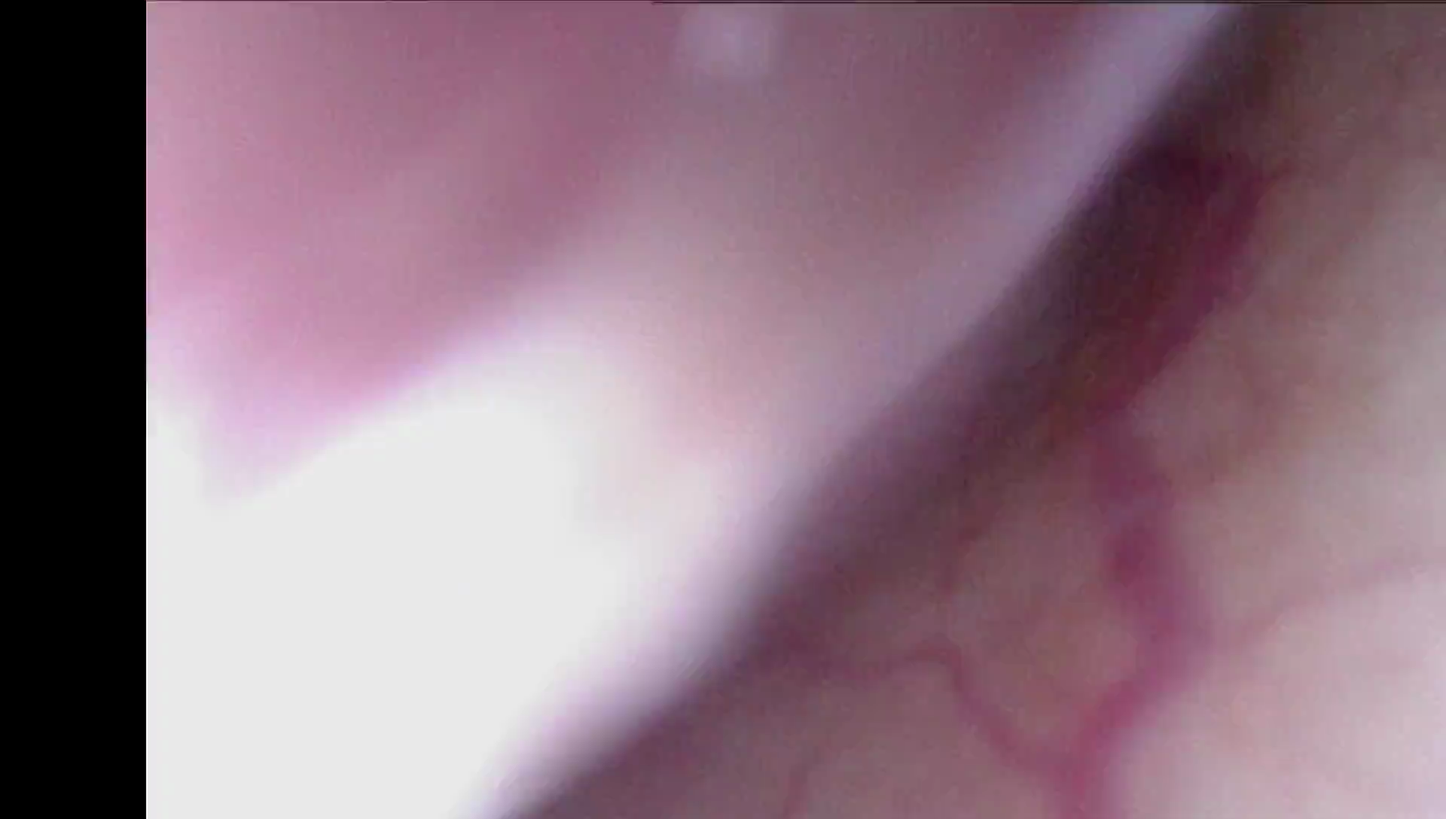close_wall: (158, 25, 901, 772), (1005, 501, 1446, 819)
next: (949, 90, 1215, 474)
